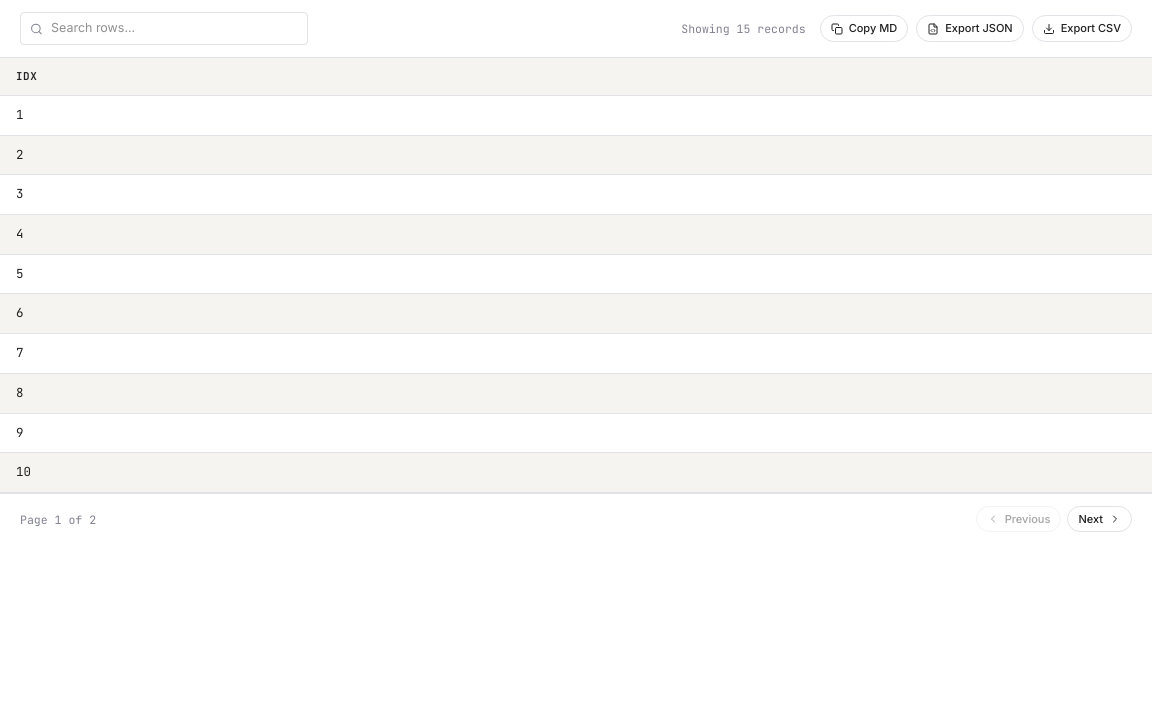
Test case: ResultsTable Component › navigates pages when more than 10 rows are present
expect the text "Page 1 of 2" is shown: met, box left=20, top=511, right=96, bottom=528
expect the text "1" is shown: met, box left=0, top=95, right=1151, bottom=135
Click the button "Next" at [1100, 519], box left=1067, top=506, right=1132, bottom=532
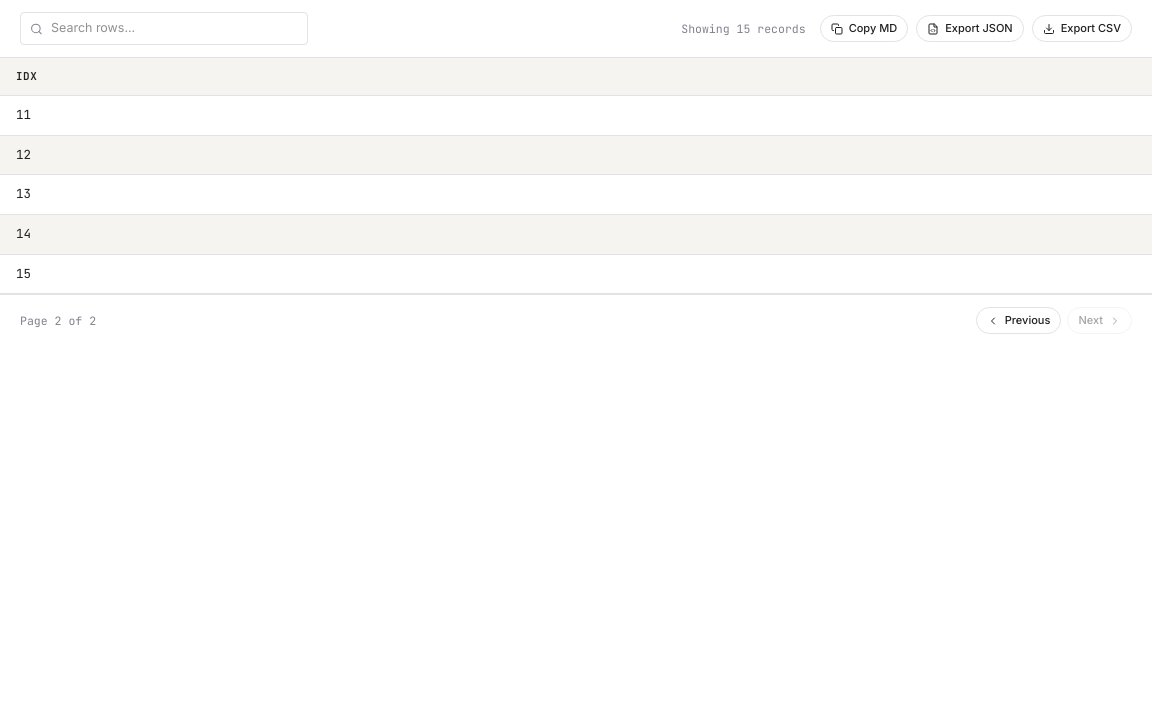
expect the text "Page 2 of 2" is shown: met, box left=20, top=312, right=96, bottom=329
expect the text "11" is shown: met, box left=0, top=95, right=1151, bottom=135
expect the text "15" is shown: met, box left=0, top=254, right=1151, bottom=294
